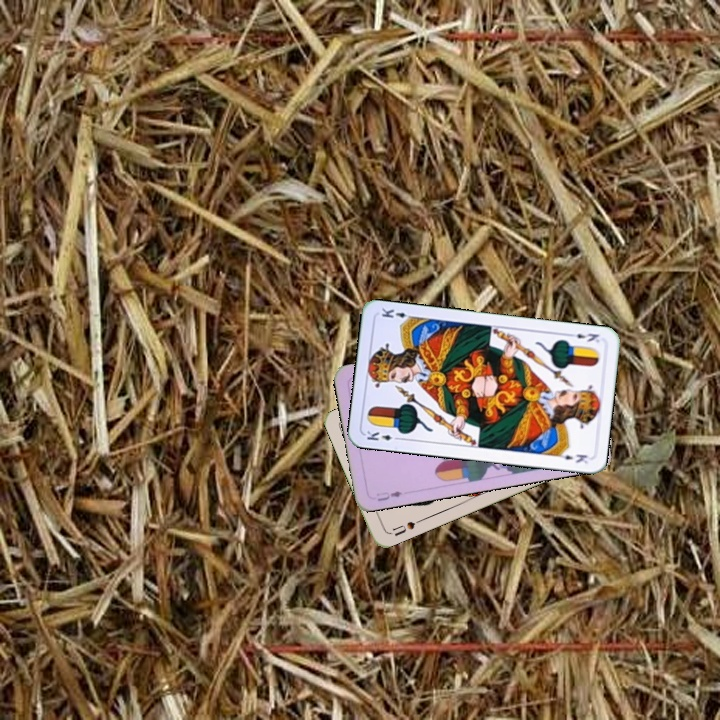EK: (362, 427, 403, 443), (564, 329, 602, 345)
EU: (372, 487, 405, 504)
SU: (385, 515, 424, 539)
